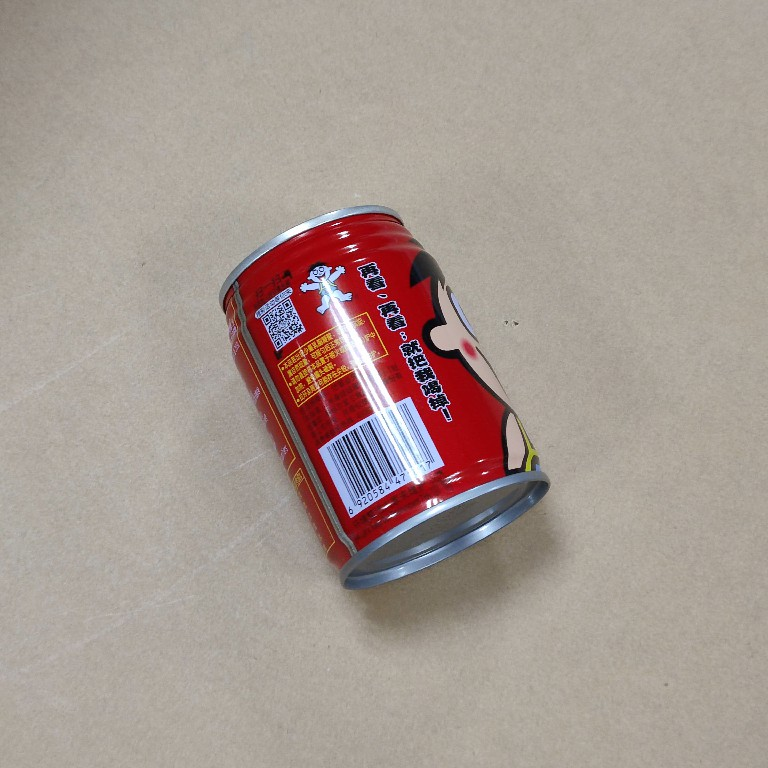can: (212, 203, 555, 594)
